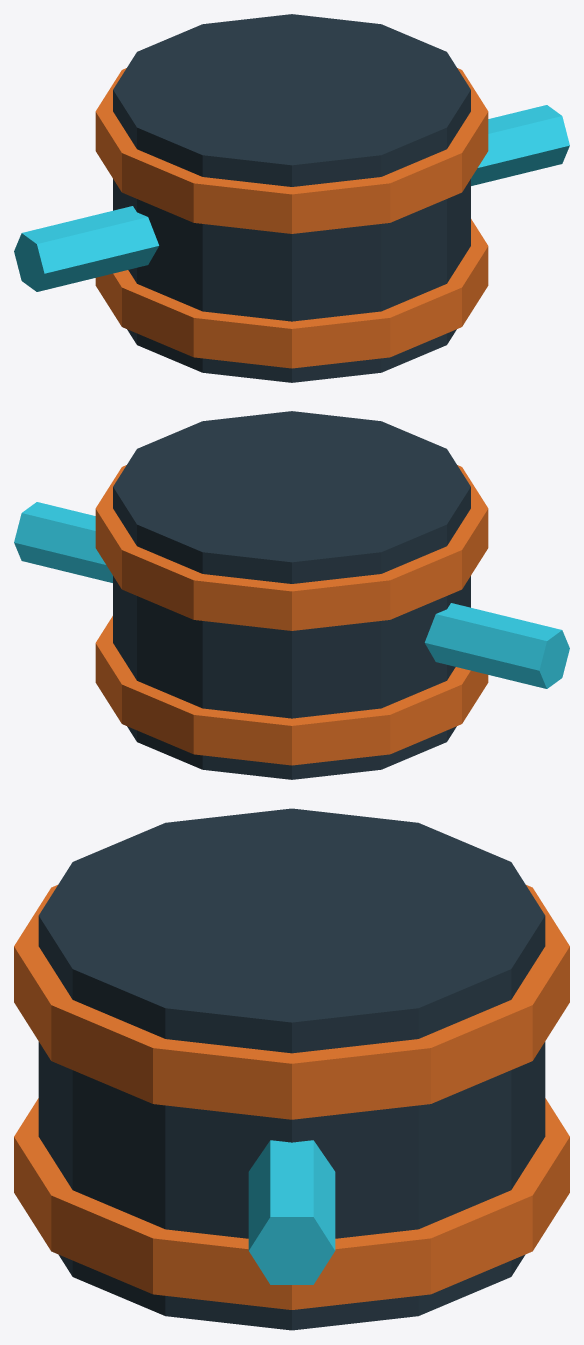
File: crystal_core_machine.glb
3 renders of one model, top to bottom at view 1: azimuth 30°, elevation 25°; view 2: azimuth 150°, elevation 25°; view 3: azimuth 270°, elevation 25°, orthographic. The views are drawn at different scales.
Parts seen in each view (by area): view 1: crystal_core_machine; view 2: crystal_core_machine; view 3: crystal_core_machine.
Part boxes in pixels (box(x1,y1,x2,y2)): crystal_core_machine: box(14, 14, 569, 382); crystal_core_machine: box(14, 411, 569, 779); crystal_core_machine: box(14, 808, 569, 1330).
Size of the model in its own units: 2.78 by 1.1 by 1.8.
